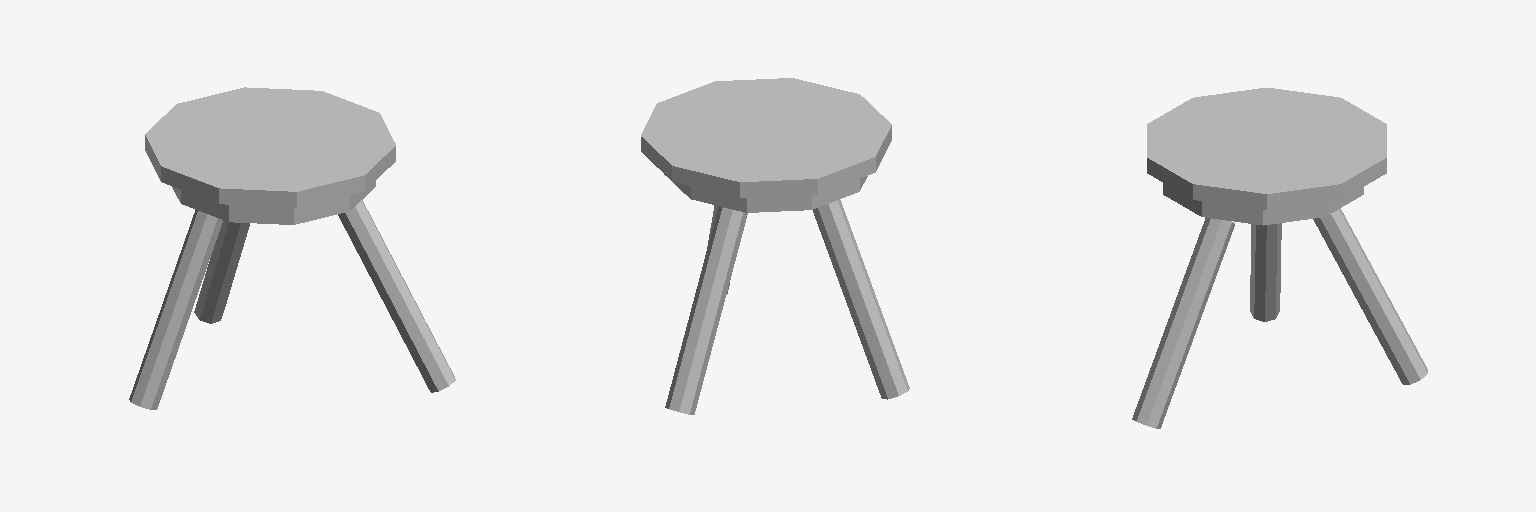
Rendered from Stool.obj.
The picture shows the model from 3 angles: view 1: azimuth 30°, elevation 25°; view 2: azimuth 150°, elevation 25°; view 3: azimuth 270°, elevation 25°; orthographic projection.
Visible parts, largest first — view 1: Stool; view 2: Stool; view 3: Stool.
Part boxes in pixels (x1,y1,x2,y2): Stool: (129,87,455,409); Stool: (641,78,909,414); Stool: (1132,88,1427,428).
Size of the model in its own units: 0.6055 by 0.52 by 0.5857.